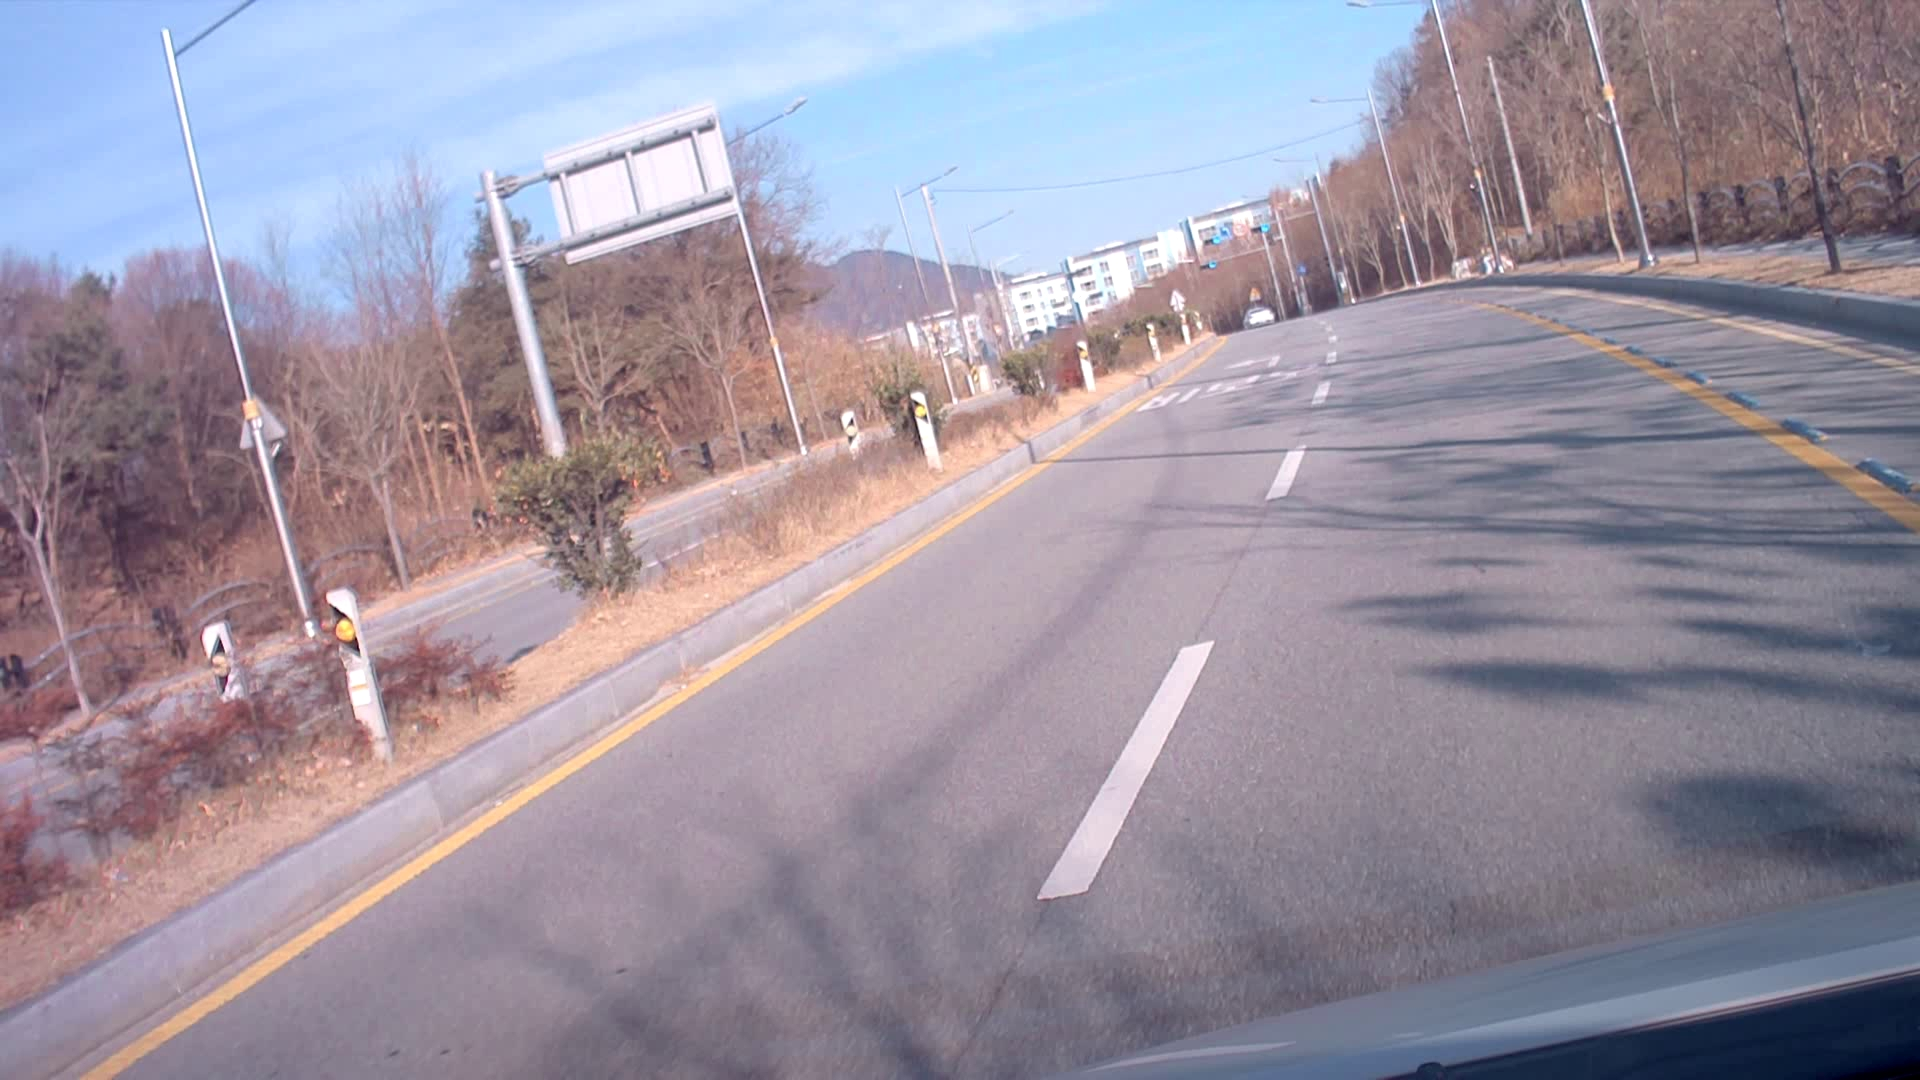trafficLight: (1205, 225, 1276, 245), (1193, 261, 1226, 270)
